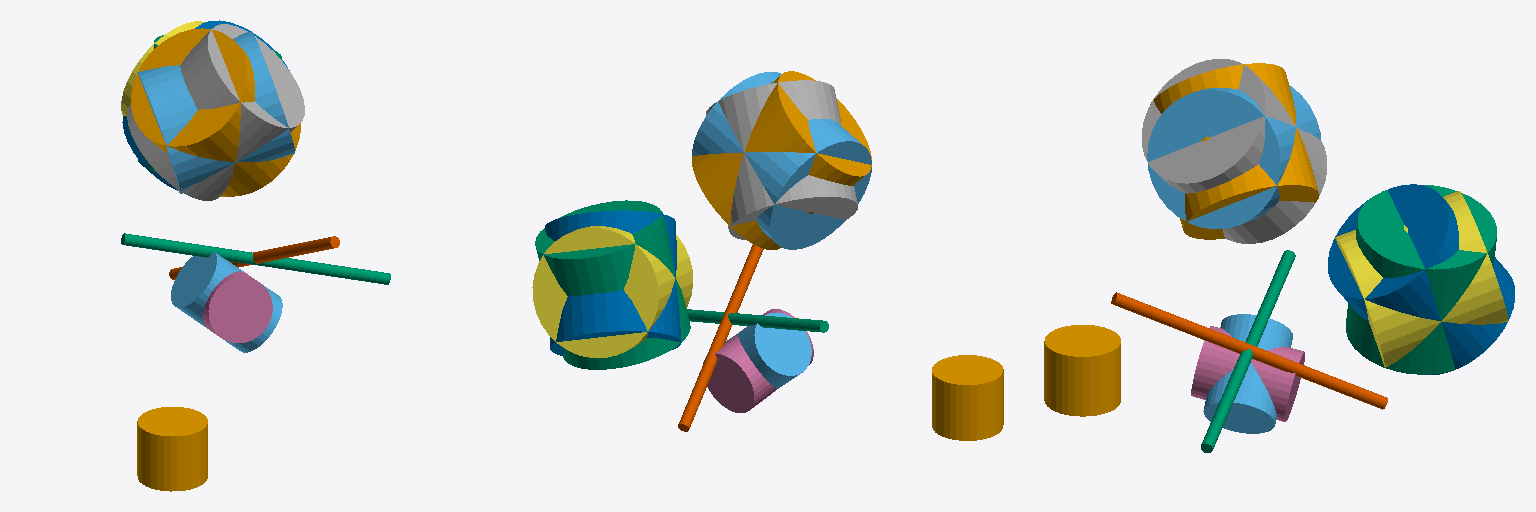
robot.urdf — pepe:
<?xml version="1.0"?><robot name="pepe">
	<link name="0">
		<visual>
			<geometry>
				<cylinder length="0.3959241375861273" radius="0.23088579209349352"/>
			</geometry>
		</visual>
		<collision>
			<geometry>
				<cylinder length="0.3959241375861273" radius="0.23088579209349352"/>
			</geometry>
		</collision>
		<inertial>
			<mass value="0.06630652525714872"/>
			<inertia ixx="0.03" iyy="0.03" izz="0.03" ixy="0" ixz="0" iyx="0"/>
		</inertial>
	</link>
	<link name="11">
		<visual>
			<geometry>
				<cylinder length="0.5880539106902516" radius="0.22063795012418597"/>
			</geometry>
		</visual>
		<collision>
			<geometry>
				<cylinder length="0.5880539106902516" radius="0.22063795012418597"/>
			</geometry>
		</collision>
		<inertial>
			<mass value="0.0899347316408109"/>
			<inertia ixx="0.03" iyy="0.03" izz="0.03" ixy="0" ixz="0" iyx="0"/>
		</inertial>
	</link>
	<link name="22">
		<visual>
			<geometry>
				<cylinder length="0.7960772599191991" radius="0.4238054977469259"/>
			</geometry>
		</visual>
		<collision>
			<geometry>
				<cylinder length="0.7960772599191991" radius="0.4238054977469259"/>
			</geometry>
		</collision>
		<inertial>
			<mass value="0.4491984650242444"/>
			<inertia ixx="0.03" iyy="0.03" izz="0.03" ixy="0" ixz="0" iyx="0"/>
		</inertial>
	</link>
	<link name="23">
		<visual>
			<geometry>
				<cylinder length="0.7960772599191991" radius="0.4238054977469259"/>
			</geometry>
		</visual>
		<collision>
			<geometry>
				<cylinder length="0.7960772599191991" radius="0.4238054977469259"/>
			</geometry>
		</collision>
		<inertial>
			<mass value="0.4491984650242444"/>
			<inertia ixx="0.03" iyy="0.03" izz="0.03" ixy="0" ixz="0" iyx="0"/>
		</inertial>
	</link>
	<link name="24">
		<visual>
			<geometry>
				<cylinder length="0.7960772599191991" radius="0.4238054977469259"/>
			</geometry>
		</visual>
		<collision>
			<geometry>
				<cylinder length="0.7960772599191991" radius="0.4238054977469259"/>
			</geometry>
		</collision>
		<inertial>
			<mass value="0.4491984650242444"/>
			<inertia ixx="0.03" iyy="0.03" izz="0.03" ixy="0" ixz="0" iyx="0"/>
		</inertial>
	</link>
	<link name="35">
		<visual>
			<geometry>
				<cylinder length="1.8476860988536439" radius="0.038723948578078926"/>
			</geometry>
		</visual>
		<collision>
			<geometry>
				<cylinder length="1.8476860988536439" radius="0.038723948578078926"/>
			</geometry>
		</collision>
		<inertial>
			<mass value="0.008704369801777582"/>
			<inertia ixx="0.03" iyy="0.03" izz="0.03" ixy="0" ixz="0" iyx="0"/>
		</inertial>
	</link>
	<link name="16">
		<visual>
			<geometry>
				<cylinder length="0.5880539106902516" radius="0.22063795012418597"/>
			</geometry>
		</visual>
		<collision>
			<geometry>
				<cylinder length="0.5880539106902516" radius="0.22063795012418597"/>
			</geometry>
		</collision>
		<inertial>
			<mass value="0.0899347316408109"/>
			<inertia ixx="0.03" iyy="0.03" izz="0.03" ixy="0" ixz="0" iyx="0"/>
		</inertial>
	</link>
	<link name="27">
		<visual>
			<geometry>
				<cylinder length="0.7960772599191991" radius="0.4238054977469259"/>
			</geometry>
		</visual>
		<collision>
			<geometry>
				<cylinder length="0.7960772599191991" radius="0.4238054977469259"/>
			</geometry>
		</collision>
		<inertial>
			<mass value="0.4491984650242444"/>
			<inertia ixx="0.03" iyy="0.03" izz="0.03" ixy="0" ixz="0" iyx="0"/>
		</inertial>
	</link>
	<link name="28">
		<visual>
			<geometry>
				<cylinder length="0.7960772599191991" radius="0.4238054977469259"/>
			</geometry>
		</visual>
		<collision>
			<geometry>
				<cylinder length="0.7960772599191991" radius="0.4238054977469259"/>
			</geometry>
		</collision>
		<inertial>
			<mass value="0.4491984650242444"/>
			<inertia ixx="0.03" iyy="0.03" izz="0.03" ixy="0" ixz="0" iyx="0"/>
		</inertial>
	</link>
	<link name="29">
		<visual>
			<geometry>
				<cylinder length="0.7960772599191991" radius="0.4238054977469259"/>
			</geometry>
		</visual>
		<collision>
			<geometry>
				<cylinder length="0.7960772599191991" radius="0.4238054977469259"/>
			</geometry>
		</collision>
		<inertial>
			<mass value="0.4491984650242444"/>
			<inertia ixx="0.03" iyy="0.03" izz="0.03" ixy="0" ixz="0" iyx="0"/>
		</inertial>
	</link>
	<link name="310">
		<visual>
			<geometry>
				<cylinder length="1.8476860988536439" radius="0.038723948578078926"/>
			</geometry>
		</visual>
		<collision>
			<geometry>
				<cylinder length="1.8476860988536439" radius="0.038723948578078926"/>
			</geometry>
		</collision>
		<inertial>
			<mass value="0.008704369801777582"/>
			<inertia ixx="0.03" iyy="0.03" izz="0.03" ixy="0" ixz="0" iyx="0"/>
		</inertial>
	</link>
	<joint name="11_to_0" type="revolute">
		<parent link="0"/>
		<child link="11"/>
		<axis xyz="1 0 0"/>
		<limit effort="1" upper="-3.1415" lower="3.1415" velocity="1"/>
		<origin rpy="2.935834071248703 3.984041339276468 3.1714885254485563" xyz="0.981347176045904 0.9962752452454041 0.43524944248245856"/>
	</joint>
	<joint name="22_to_11" type="revolute">
		<parent link="11"/>
		<child link="22"/>
		<axis xyz="1 0 0"/>
		<limit effort="1" upper="-3.1415" lower="3.1415" velocity="1"/>
		<origin rpy="2.4963209049076687 5.389554495025835 3.886797780320227" xyz="0.9714846986964824 0.9686651438603617 0.3920203490257017"/>
	</joint>
	<joint name="23_to_11" type="revolute">
		<parent link="11"/>
		<child link="23"/>
		<axis xyz="1 0 0"/>
		<limit effort="1" upper="-3.1415" lower="3.1415" velocity="1"/>
		<origin rpy="3.744481357361503 5.389554495025835 3.886797780320227" xyz="0.9714846986964824 0.9686651438603617 0.3920203490257017"/>
	</joint>
	<joint name="24_to_11" type="revolute">
		<parent link="11"/>
		<child link="24"/>
		<axis xyz="1 0 0"/>
		<limit effort="1" upper="-3.1415" lower="3.1415" velocity="1"/>
		<origin rpy="4.992641809815337 5.389554495025835 3.886797780320227" xyz="0.9714846986964824 0.9686651438603617 0.3920203490257017"/>
	</joint>
	<joint name="35_to_11" type="revolute">
		<parent link="11"/>
		<child link="35"/>
		<axis xyz="1 0 0"/>
		<limit effort="1" upper="-3.1415" lower="3.1415" velocity="1"/>
		<origin rpy="28.662350795744366 1.5944751395238808 2.3867031293320884" xyz="0.3327432408071297 0.0 0.008015420432363252"/>
	</joint>
	<joint name="16_to_0" type="revolute">
		<parent link="0"/>
		<child link="16"/>
		<axis xyz="1 0 0"/>
		<limit effort="1" upper="-3.1415" lower="3.1415" velocity="1"/>
		<origin rpy="4.403751106873055 3.984041339276468 3.1714885254485563" xyz="0.981347176045904 0.9962752452454041 0.43524944248245856"/>
	</joint>
	<joint name="27_to_16" type="revolute">
		<parent link="16"/>
		<child link="27"/>
		<axis xyz="1 0 0"/>
		<limit effort="1" upper="-3.1415" lower="3.1415" velocity="1"/>
		<origin rpy="2.4963209049076687 5.389554495025835 3.886797780320227" xyz="0.9714846986964824 0.9686651438603617 0.3920203490257017"/>
	</joint>
	<joint name="28_to_16" type="revolute">
		<parent link="16"/>
		<child link="28"/>
		<axis xyz="1 0 0"/>
		<limit effort="1" upper="-3.1415" lower="3.1415" velocity="1"/>
		<origin rpy="3.744481357361503 5.389554495025835 3.886797780320227" xyz="0.9714846986964824 0.9686651438603617 0.3920203490257017"/>
	</joint>
	<joint name="29_to_16" type="revolute">
		<parent link="16"/>
		<child link="29"/>
		<axis xyz="1 0 0"/>
		<limit effort="1" upper="-3.1415" lower="3.1415" velocity="1"/>
		<origin rpy="4.992641809815337 5.389554495025835 3.886797780320227" xyz="0.9714846986964824 0.9686651438603617 0.3920203490257017"/>
	</joint>
	<joint name="310_to_16" type="revolute">
		<parent link="16"/>
		<child link="310"/>
		<axis xyz="1 0 0"/>
		<limit effort="1" upper="-3.1415" lower="3.1415" velocity="1"/>
		<origin rpy="28.662350795744366 1.5944751395238808 2.3867031293320884" xyz="0.3327432408071297 0.0 0.008015420432363252"/>
	</joint>
</robot>

--- Facts derived from the render (not from the file) ---
3 views of the same robot in one strip: view 1: azimuth 30°, elevation 25°; view 2: azimuth 150°, elevation 25°; view 3: azimuth 270°, elevation 25° (orthographic).
Robot: pepe — 11 links, 10 joints (10 revolute); root link 0; default pose: all joints at 0.
Visible links, largest first — view 1: 28, 27, 29, 0, 16, 11, 310, 35, 23, 24; view 2: 29, 28, 23, 27, 22, 24, 0, 11, 16, 35, 310; view 3: 27, 24, 22, 29, 23, 28, 0, 11, 35, 16, 310.
Boxes of the visible links, bbox=[...] form: 28: bbox=[131, 28, 300, 196]; 27: bbox=[127, 24, 304, 200]; 29: bbox=[137, 31, 294, 193]; 0: bbox=[137, 407, 207, 491]; 16: bbox=[195, 271, 272, 342]; 11: bbox=[171, 251, 282, 352]; 310: bbox=[121, 233, 390, 284]; 35: bbox=[169, 236, 339, 279]; 23: bbox=[121, 21, 224, 196]; 24: bbox=[122, 20, 289, 190]; 29: bbox=[692, 72, 871, 249]; 28: bbox=[692, 71, 871, 249]; 23: bbox=[532, 226, 692, 357]; 27: bbox=[706, 80, 857, 240]; 22: bbox=[535, 200, 690, 369]; 24: bbox=[545, 210, 680, 355]; 0: bbox=[932, 355, 1003, 440]; 11: bbox=[725, 312, 811, 388]; 16: bbox=[703, 309, 813, 412]; 35: bbox=[678, 244, 763, 431]; 310: bbox=[687, 309, 828, 332]; 27: bbox=[1142, 59, 1326, 243]; 24: bbox=[1328, 184, 1514, 374]; 22: bbox=[1346, 185, 1496, 374]; 29: bbox=[1147, 85, 1320, 229]; 23: bbox=[1335, 191, 1507, 367]; 28: bbox=[1150, 63, 1318, 239]; 0: bbox=[1044, 325, 1120, 416]; 11: bbox=[1203, 314, 1292, 433]; 35: bbox=[1111, 292, 1387, 409]; 16: bbox=[1191, 326, 1304, 421]; 310: bbox=[1201, 250, 1295, 452].
Size in the robot's own frame: 2.3 by 2.84 by 2.63 metres.
Geometry: primitives only (box / cylinder / sphere), no mesh files.
